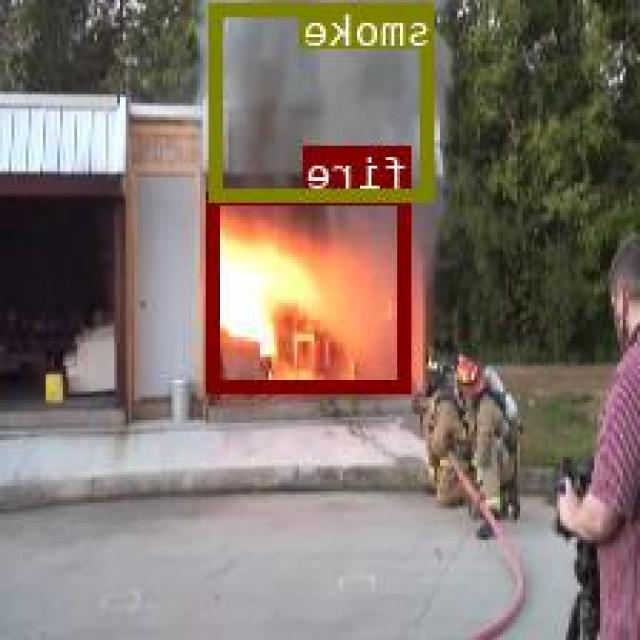fire: (210, 190, 412, 390)
smoke: (212, 2, 435, 198)
